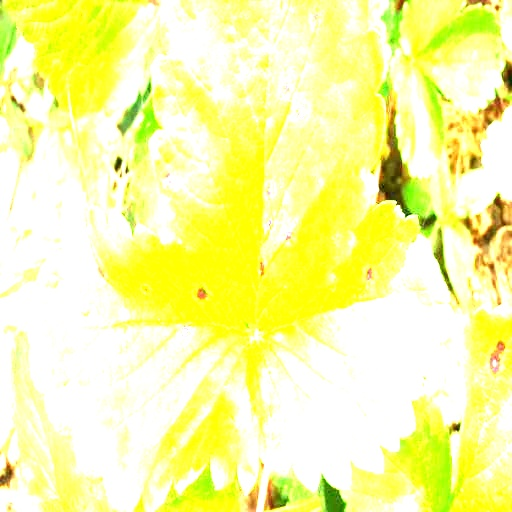Leaf Spot: (147, 0, 386, 330), (26, 205, 272, 511), (254, 196, 457, 495), (448, 305, 511, 511), (480, 106, 511, 200)
